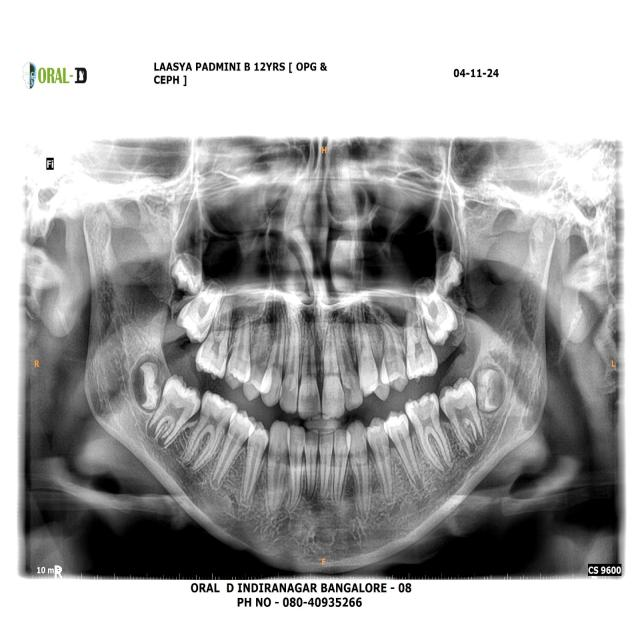Premolars: (384, 412, 423, 494), (364, 416, 394, 501)
